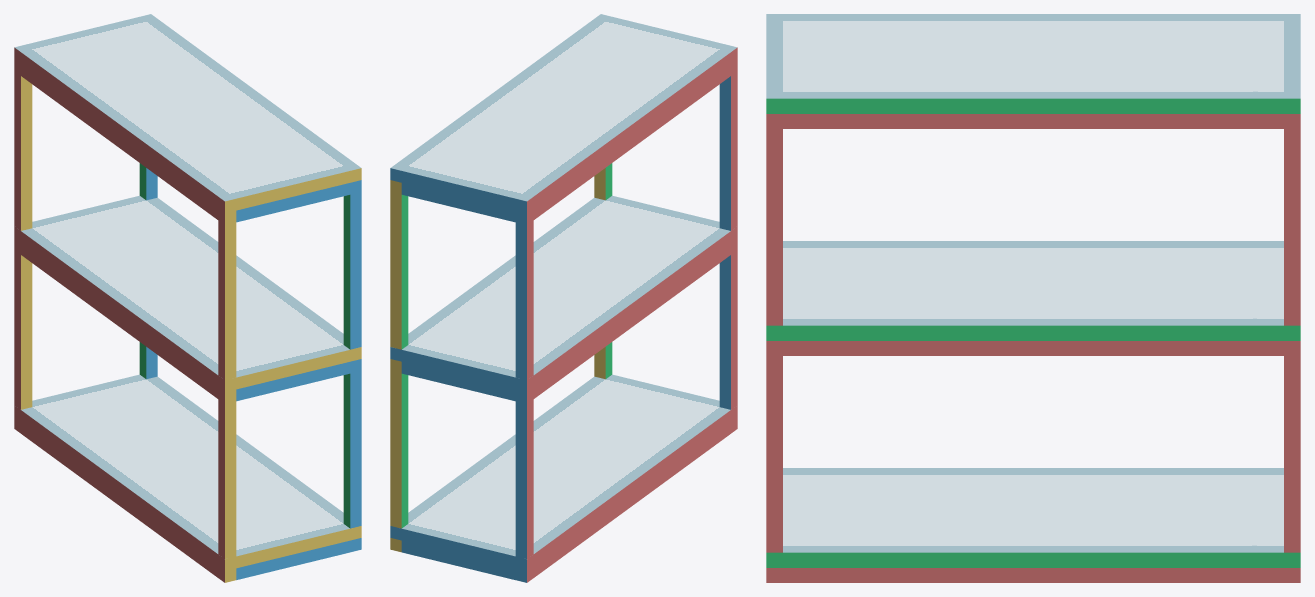
The model's file is Shelf.gltf.
3 views of the same model, side by side, from view 1: azimuth 30°, elevation 25°; view 2: azimuth 150°, elevation 25°; view 3: azimuth 270°, elevation 25° (orthographic). The views are drawn at different scales.
Visible parts, largest first — view 1: Plank (×3), Foot (×4), Length_handle (×3), Width_Handle (×3); view 2: Plank (×3), Foot (×4), Length_handle (×3), Width_Handle (×3); view 3: Plank (×3), Length_handle (×3), Foot (×2).
Part boxes in pixels (x1,y1,x2,y2): Plank (×3): [14, 14, 361, 570]; Foot (×4): [14, 59, 361, 582]; Length_handle (×3): [20, 64, 218, 577]; Width_Handle (×3): [236, 183, 350, 579]; Plank (×3): [390, 14, 737, 570]; Foot (×4): [390, 59, 737, 582]; Length_handle (×3): [533, 64, 730, 577]; Width_Handle (×3): [401, 183, 515, 579]; Plank (×3): [766, 14, 1300, 567]; Length_handle (×3): [783, 114, 1283, 582]; Foot (×2): [766, 114, 1300, 582].
Bounding box in the file's own units: 0.75 × 2 × 2.
1 material, 1 textured.
